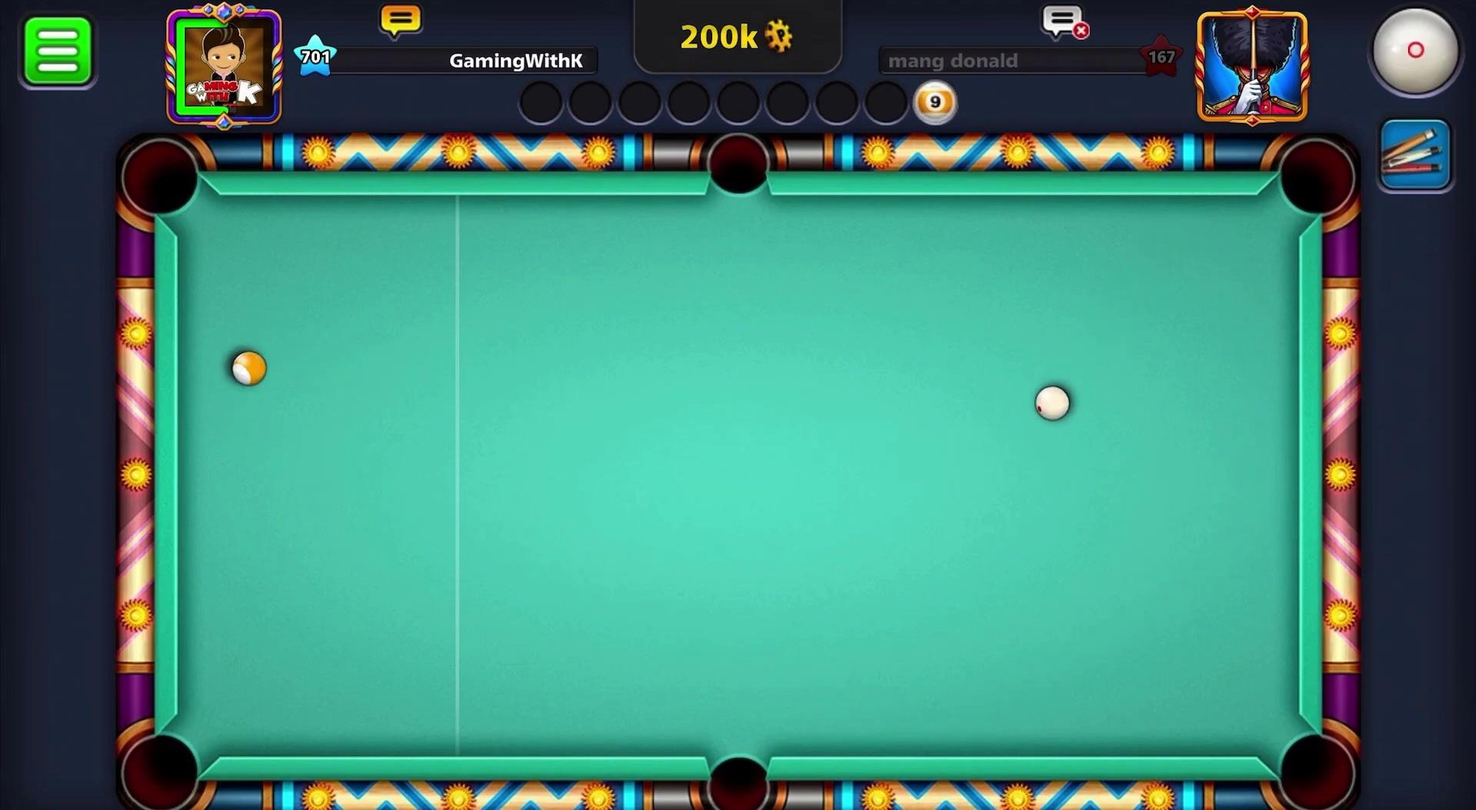Ball: (227, 341, 272, 397)
Hole: (108, 128, 215, 234), (1268, 131, 1365, 231), (110, 719, 213, 809), (1264, 717, 1364, 809), (685, 734, 786, 809), (698, 129, 779, 207)
Play_Area: (180, 195, 1305, 759)
Spin: (1346, 0, 1475, 112)
White: (1030, 380, 1076, 428)
